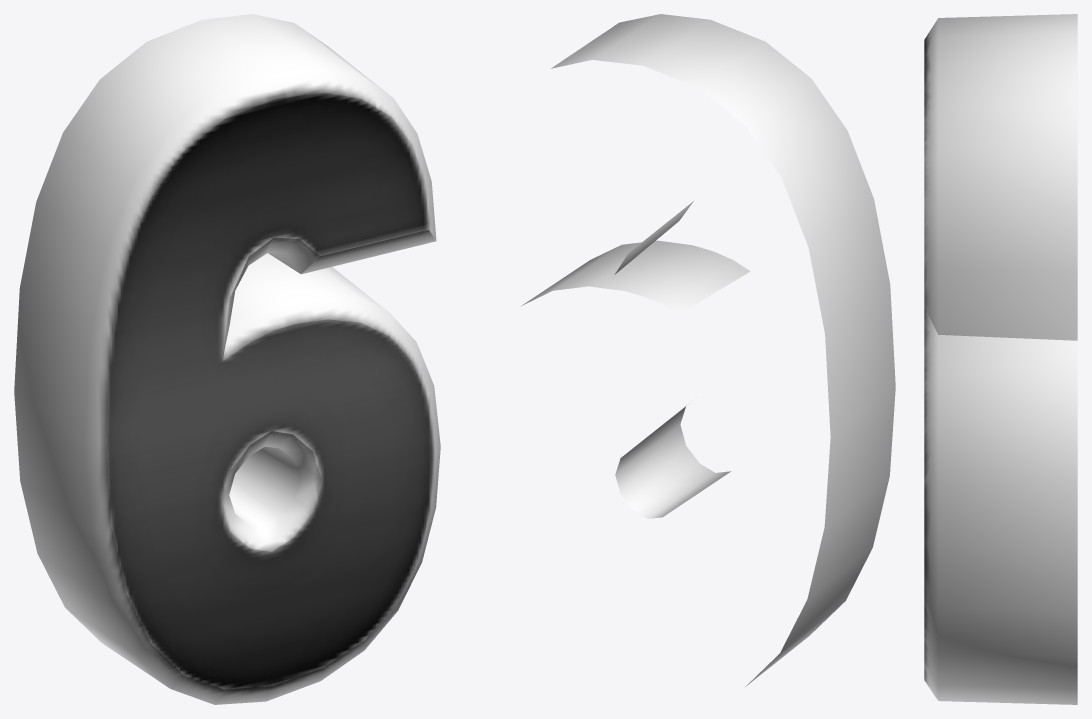
Rendered from bbl_score_model__score_6b.glb.
3 views of the same model, side by side, from view 1: azimuth 30°, elevation 25°; view 2: azimuth 150°, elevation 25°; view 3: azimuth 270°, elevation 25° (orthographic). The views are drawn at different scales.
Visible parts, largest first — view 1: polygon1, polygon0; view 2: polygon0; view 3: polygon0.
Part boxes in pixels (x1,y1,x2,y2): polygon1: [106, 92, 432, 689]; polygon0: [14, 14, 440, 704]; polygon0: [521, 14, 895, 686]; polygon0: [924, 14, 1077, 704].
Bounding box in the file's own units: 3.07 × 5.16 × 1.1.
Materials: 2 (2 with a texture image).
